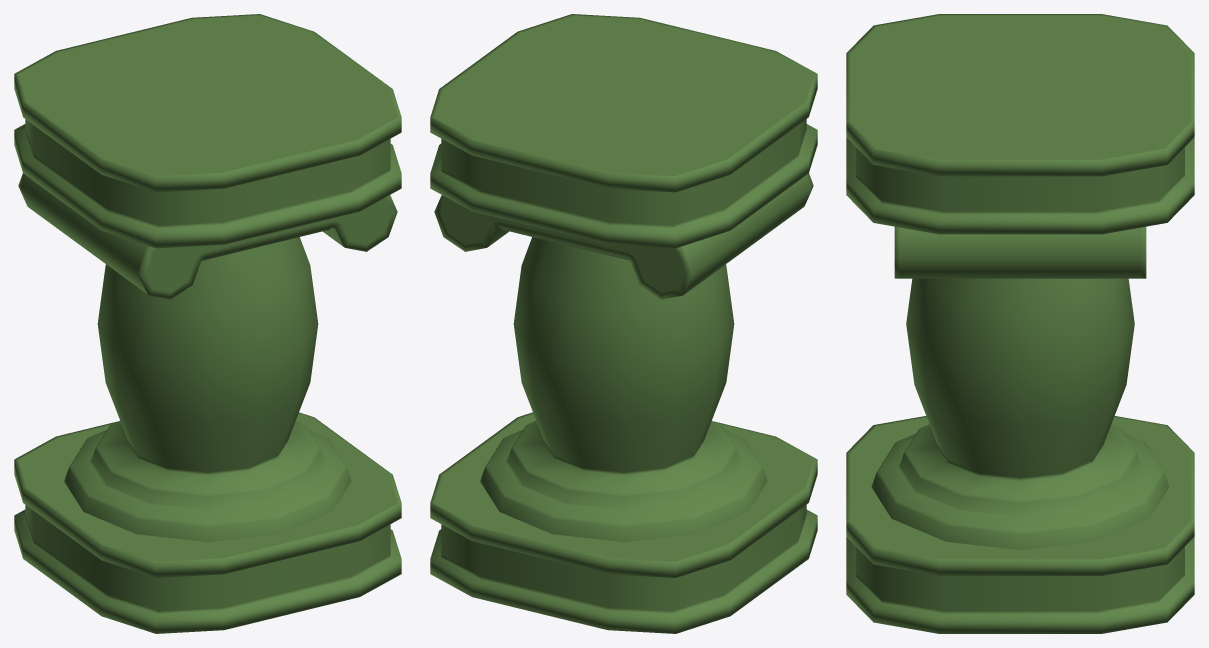
File: Pillar00_lowpoly.fbx
3 views of the same model, side by side, from view 1: azimuth 30°, elevation 25°; view 2: azimuth 150°, elevation 25°; view 3: azimuth 270°, elevation 25° (orthographic). The views are drawn at different scales.
Parts seen in each view (by area): view 1: Pillar00.Lowpoly; view 2: Pillar00.Lowpoly; view 3: Pillar00.Lowpoly.
Boxes of the visible parts, box(x1,y1,x2,y2) form: Pillar00.Lowpoly: box(14, 14, 401, 633); Pillar00.Lowpoly: box(430, 14, 817, 633); Pillar00.Lowpoly: box(846, 14, 1194, 633).
Size of the model in its own units: 66.84 by 100 by 66.84.
